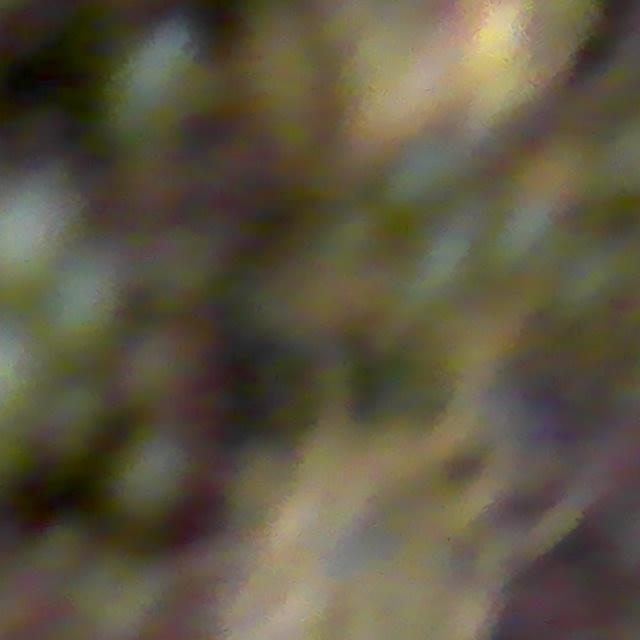SeaGrape: (104, 419, 205, 525), (0, 171, 72, 300), (113, 323, 208, 413), (41, 262, 120, 358), (389, 127, 473, 206), (36, 379, 108, 459)
